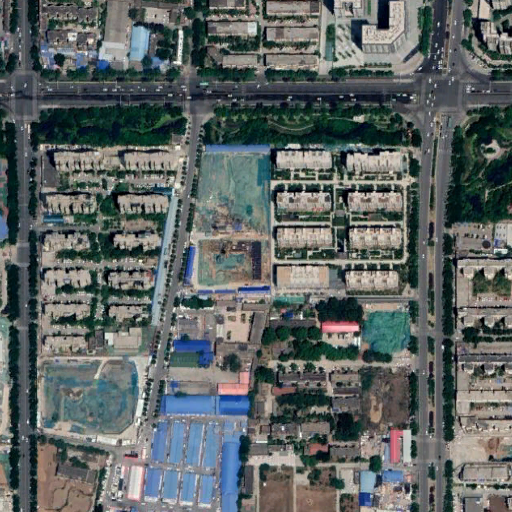cw: (191, 153, 271, 285), (39, 359, 137, 436), (364, 307, 412, 357)
